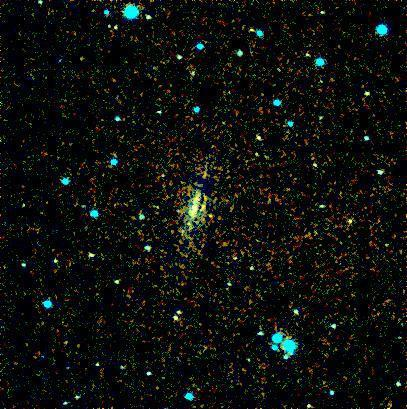star: (195, 203, 225, 233)
